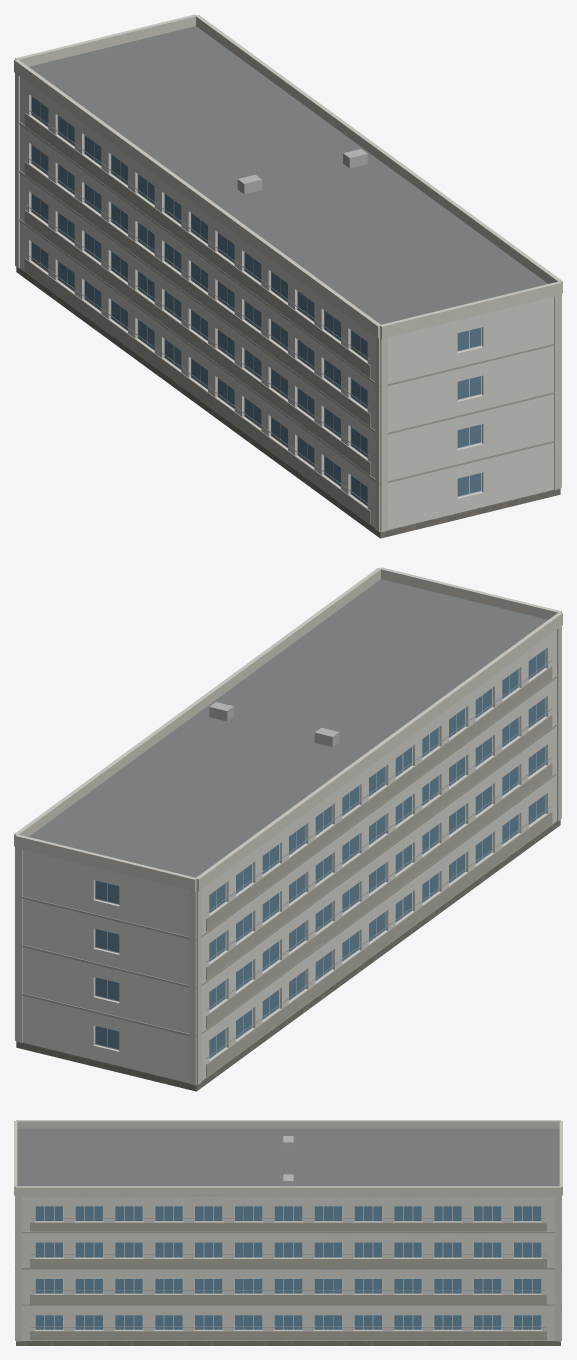
The picture shows the model from 3 angles, top to bottom: view 1: azimuth 30°, elevation 25°; view 2: azimuth 150°, elevation 25°; view 3: azimuth 270°, elevation 25°; orthographic projection. The views are drawn at different scales.
Parts seen in each view (by area): view 1: west-a__white, west-a__roof, west-a__band, west-a__cap, west-a__sideglass, west-a__stone, west-a__frame, west-a__steel, west-a__unit; view 2: west-a__white, west-a__roof, west-a__band, west-a__cap, west-a__sideglass, west-a__stone, west-a__frame, west-a__steel, west-a__unit; view 3: west-a__white, west-a__roof, west-a__band, west-a__glass, west-a__cap, west-a__frame, west-a__stone, west-a__steel, west-a__unit.
Part boxes in pixels (<box>): west-a__white: <box>20,76,554,529</box>; west-a__roof: <box>29,26,547,324</box>; west-a__band: <box>19,113,554,524</box>; west-a__cap: <box>14,14,562,532</box>; west-a__sideglass: <box>31,96,481,505</box>; west-a__stone: <box>16,267,560,538</box>; west-a__frame: <box>31,96,481,506</box>; west-a__steel: <box>25,107,370,505</box>; west-a__unit: <box>237,149,367,194</box>; west-a__white: <box>22,629,556,1082</box>; west-a__roof: <box>29,579,547,877</box>; west-a__band: <box>22,666,557,1077</box>; west-a__cap: <box>14,567,562,1085</box>; west-a__sideglass: <box>95,649,545,1058</box>; west-a__stone: <box>16,820,560,1091</box>; west-a__frame: <box>95,649,545,1059</box>; west-a__steel: <box>206,660,551,1058</box>; west-a__unit: <box>209,702,339,747</box>; west-a__white: <box>21,1196,555,1340</box>; west-a__roof: <box>17,1128,559,1186</box>; west-a__band: <box>15,1222,561,1340</box>; west-a__glass: <box>35,1206,541,1329</box>; west-a__cap: <box>14,1120,562,1341</box>; west-a__frame: <box>35,1206,541,1330</box>; west-a__stone: <box>16,1341,560,1345</box>; west-a__steel: <box>30,1218,546,1327</box>; west-a__unit: <box>283,1136,293,1186</box>.
Size of the model in its own units: 14.38 by 15.86 by 49.38.
10 materials, 3 textured.
